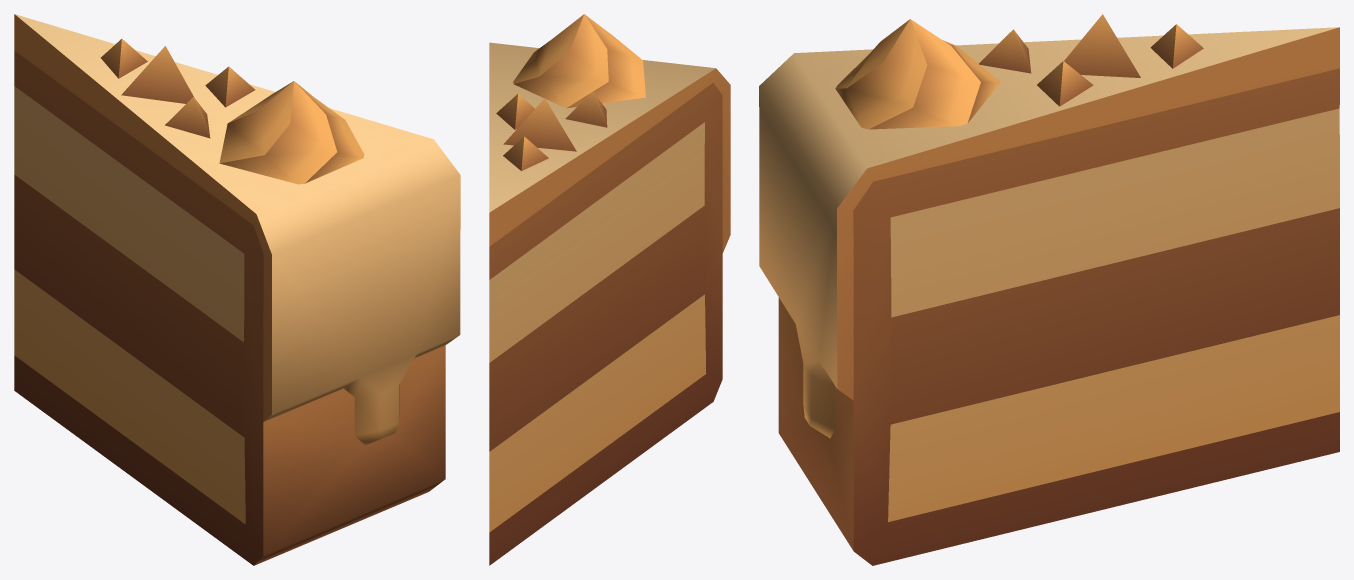
File: m_WhiteChocolateCake01_Slice03.fbx
The picture shows the model from 3 angles, left to right: view 1: azimuth 30°, elevation 25°; view 2: azimuth 150°, elevation 25°; view 3: azimuth 270°, elevation 25°; orthographic projection. The views are drawn at different scales.
Parts seen in each view (by area): view 1: m_WhiteChocolateCake01_Slice03; view 2: m_WhiteChocolateCake01_Slice03; view 3: m_WhiteChocolateCake01_Slice03.
Boxes of the visible parts, <box> form: m_WhiteChocolateCake01_Slice03: <box>14,14,460,565</box>; m_WhiteChocolateCake01_Slice03: <box>489,14,730,565</box>; m_WhiteChocolateCake01_Slice03: <box>759,14,1339,565</box>.
Bounding box in the file's own units: 7.24 × 13.27 × 14.48.
